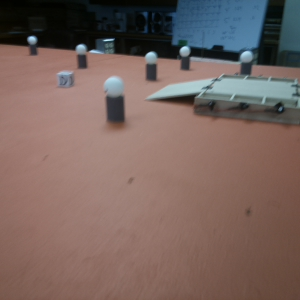blockD: (57, 71, 75, 87)
obstacle: (103, 76, 123, 120), (74, 45, 89, 68), (146, 52, 157, 81), (240, 51, 252, 76), (27, 36, 38, 55), (179, 46, 188, 69)
side: (195, 95, 296, 124)
slope: (150, 81, 198, 104)
